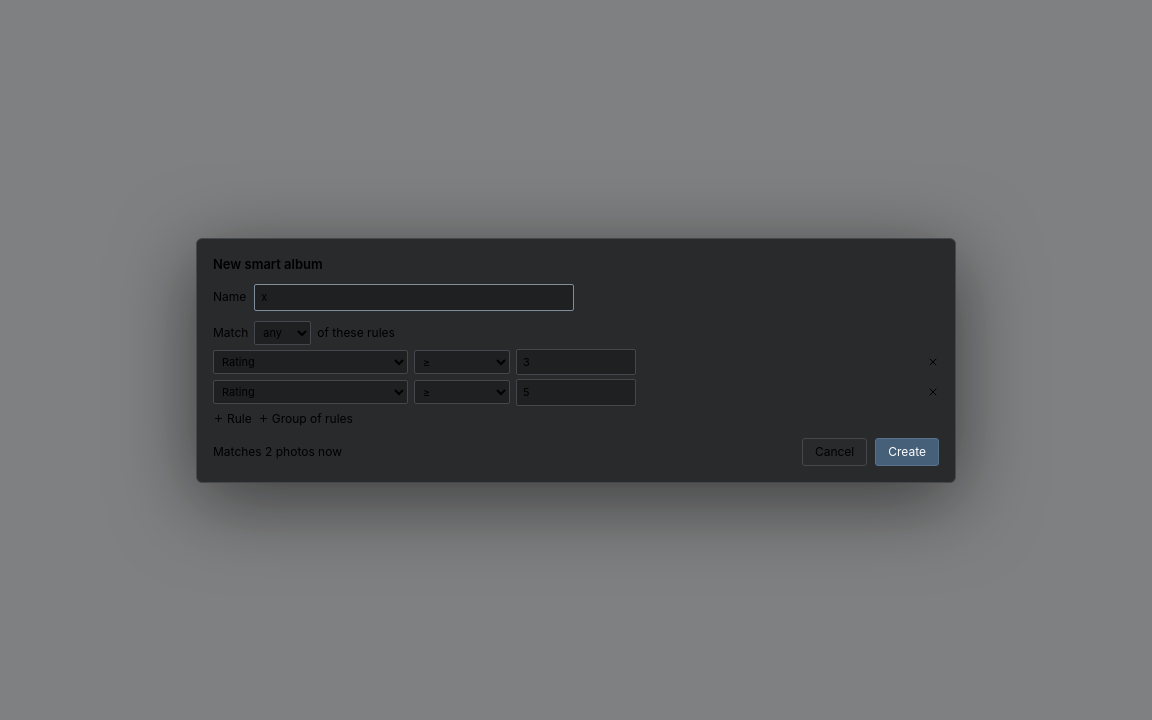
Test case: rule rows › shows each remaining rule's own number after a rule above it is removed
Step 1. Click the 1st button named "Remove the Rating rule" → [933, 362], box left=927, top=356, right=939, bottom=368
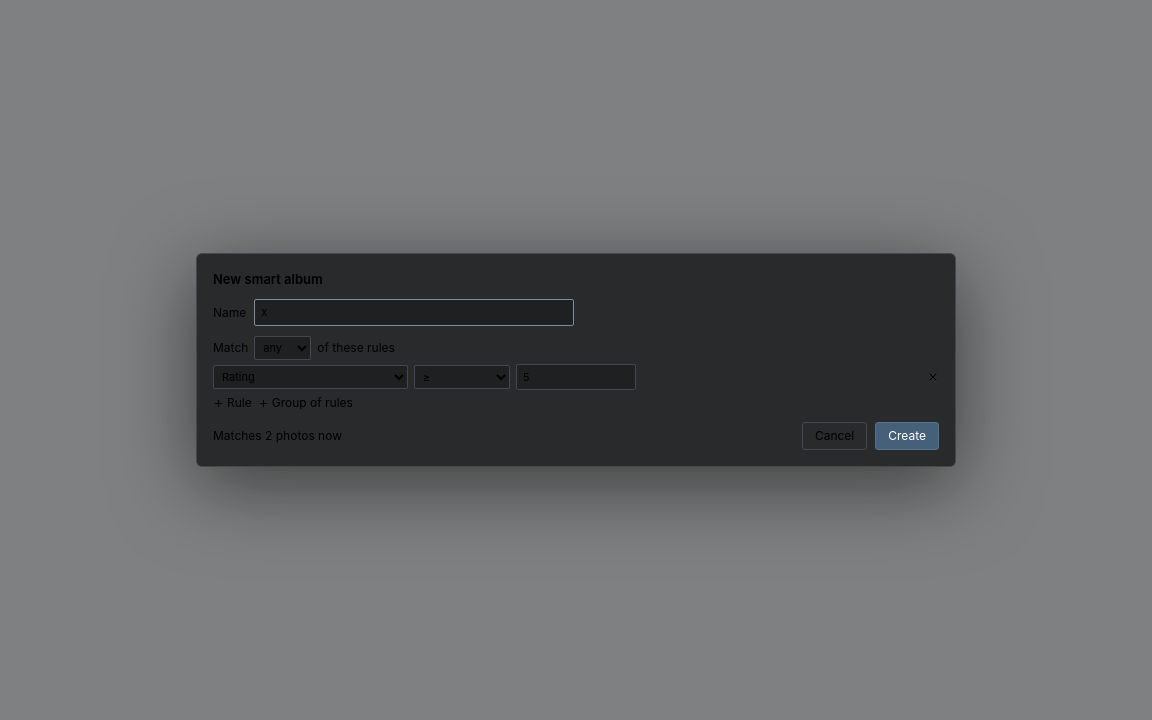
Check: the field named "Value" holds "5", box left=516, top=364, right=636, bottom=390
Note: Typing a fraction keeps what is typed while it is incomplete.
Step 2. Select "Shutter speed (s)" in the dropdown named "Field" → [310, 377], box left=213, top=365, right=408, bottom=389
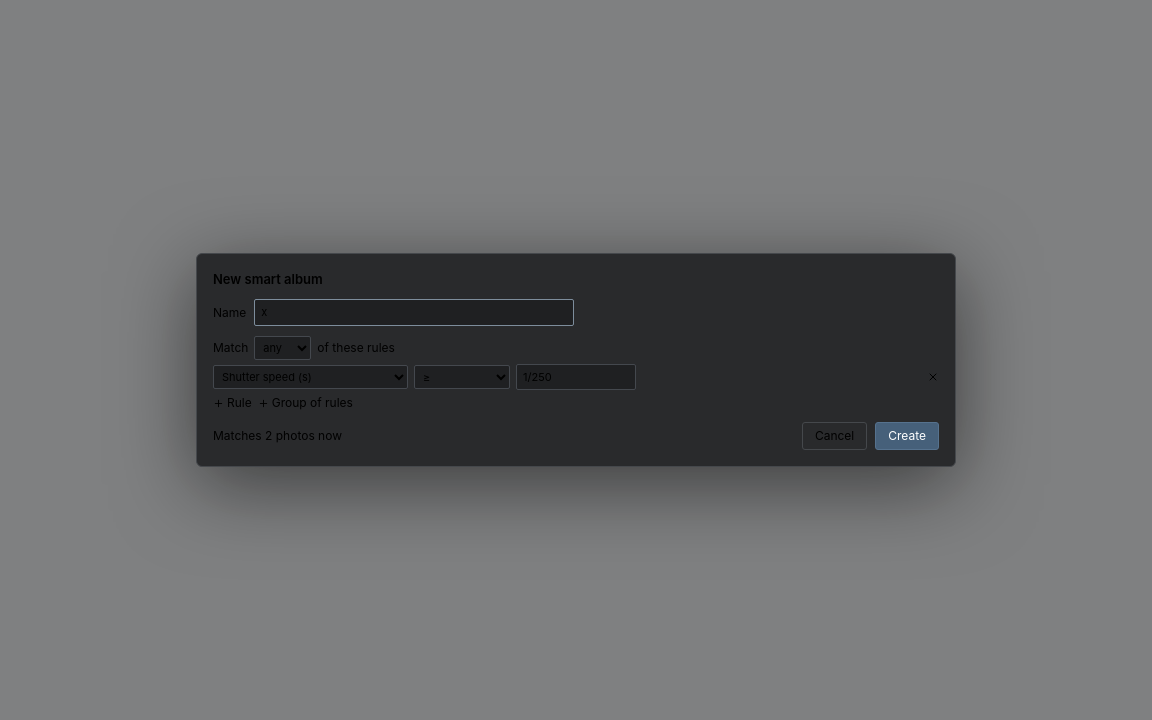
Step 3. Replace the text in the field named "Value" with "1/" → [576, 377], box left=516, top=364, right=636, bottom=390
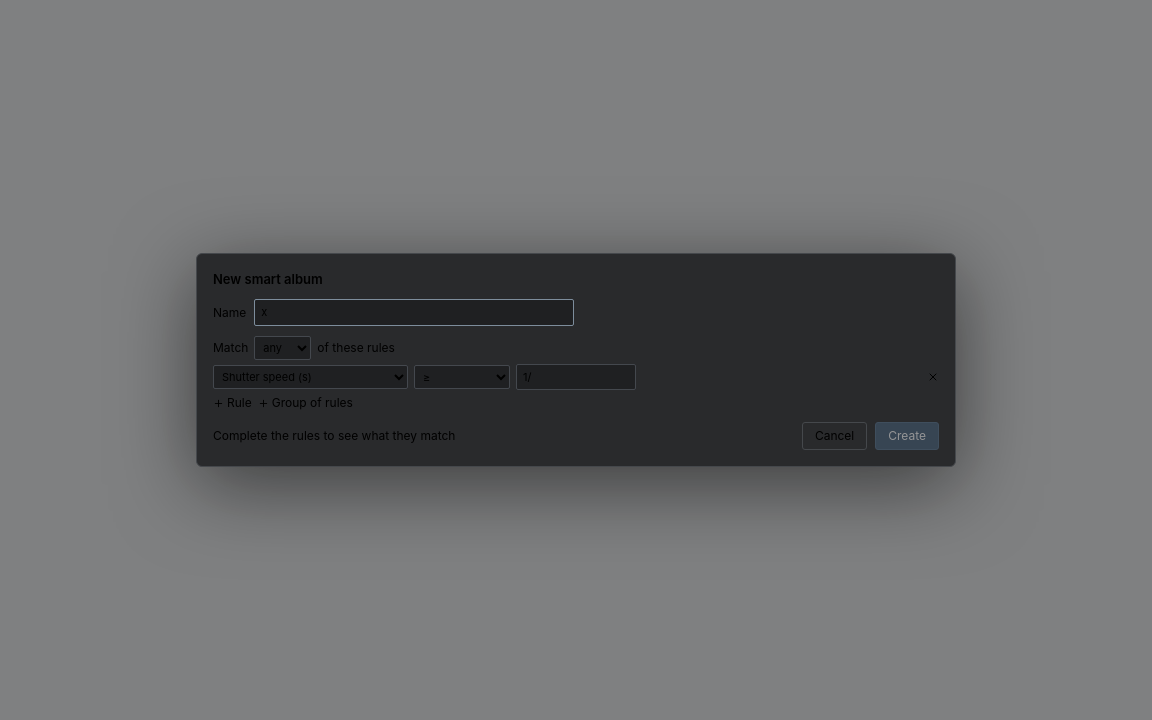
Check: the button "Create" is disabled, box left=875, top=422, right=939, bottom=450
Step 4. Replace the text in the field named "Value" with "abc" → [576, 377], box left=516, top=364, right=636, bottom=390
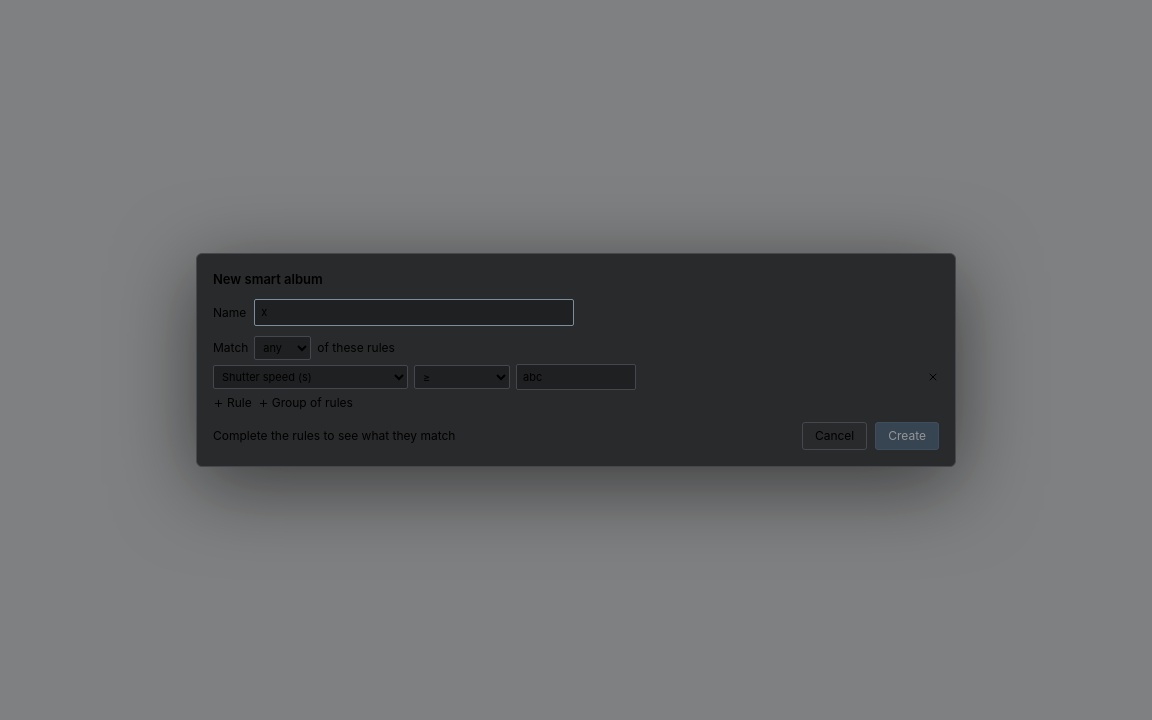
Check: the button "Create" is disabled, box left=875, top=422, right=939, bottom=450
Step 5. Replace the text in the field named "Value" with "1/500" → [576, 377], box left=516, top=364, right=636, bottom=390
Wait 200 ms
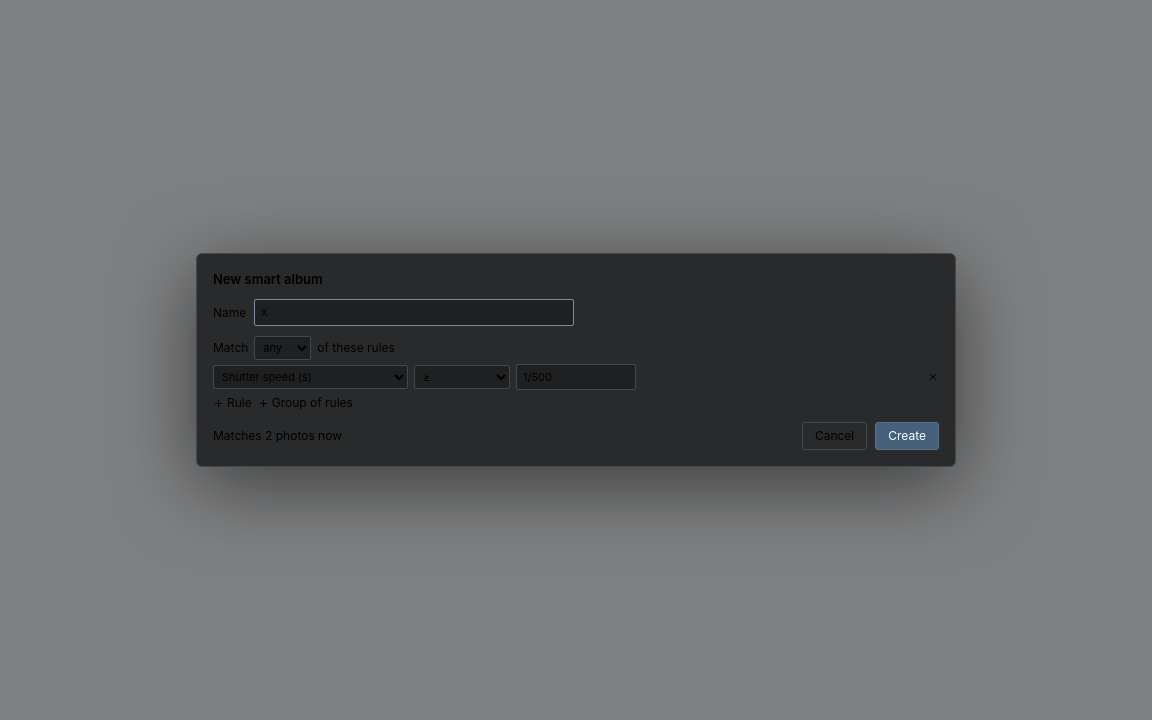
Check: the button "Create" is enabled, box left=875, top=422, right=939, bottom=450
